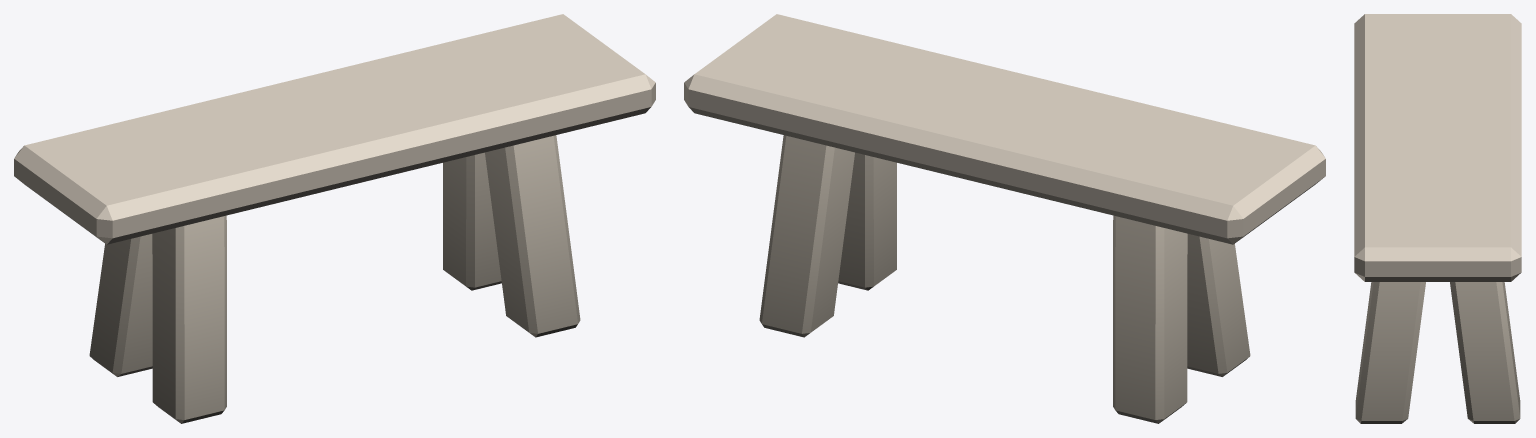
Rendered from SM_VKI_Prop_Form_150.fbx.
3 views of the same model, side by side, from view 1: azimuth 30°, elevation 25°; view 2: azimuth 150°, elevation 25°; view 3: azimuth 270°, elevation 25° (orthographic). The views are drawn at different scales.
Visible parts, largest first — view 1: SM_VKI_Prop_Form_150.001; view 2: SM_VKI_Prop_Form_150.001; view 3: SM_VKI_Prop_Form_150.001.
Part boxes in pixels (bbox=[...]): SM_VKI_Prop_Form_150.001: bbox=[14, 14, 655, 423]; SM_VKI_Prop_Form_150.001: bbox=[684, 14, 1325, 423]; SM_VKI_Prop_Form_150.001: bbox=[1354, 14, 1521, 423].
Size of the model in its own units: 1.2 by 0.48 by 0.35.
